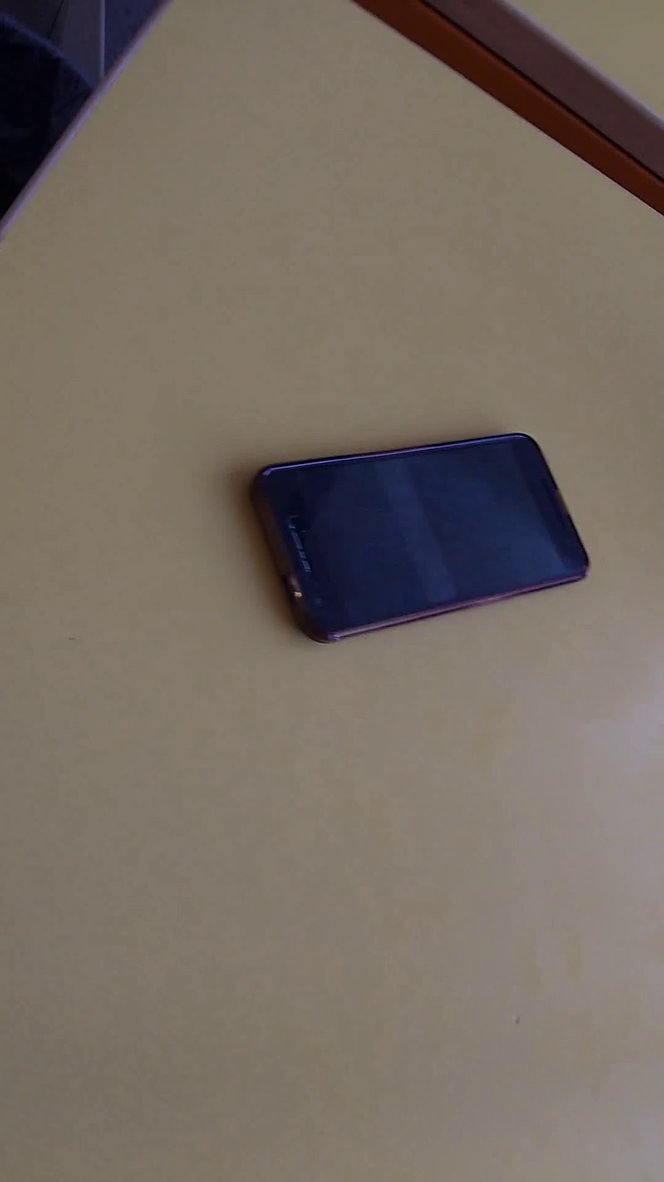phone: (236, 419, 605, 657)
